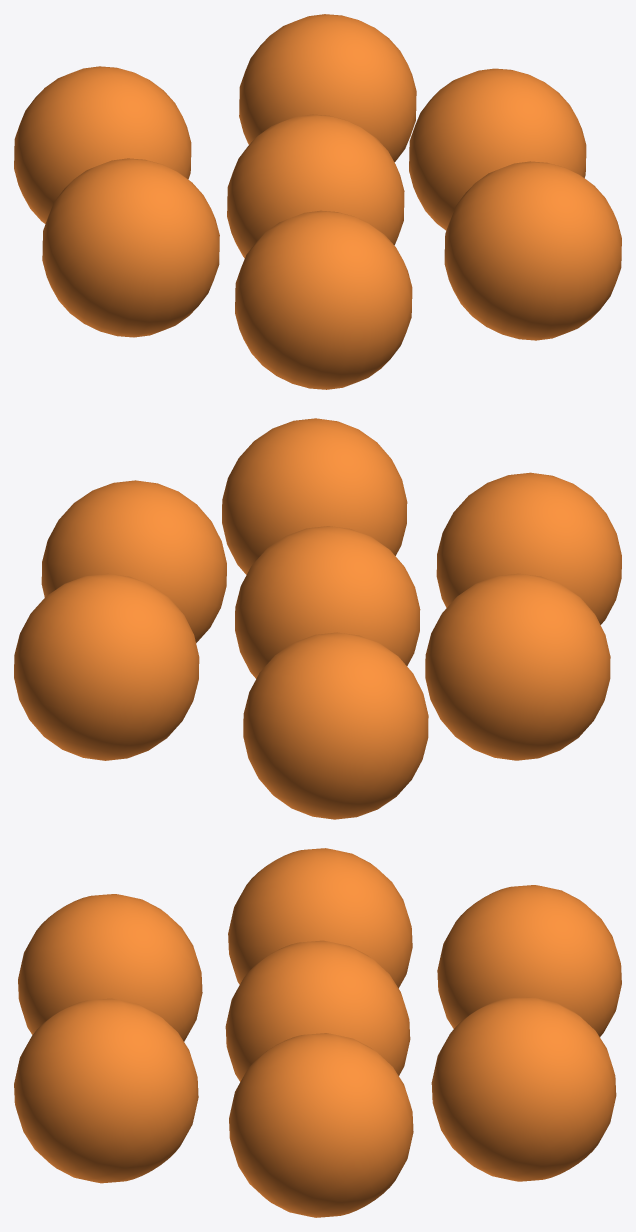
Rendered from the_dragon_balls_77baeb.fbx.
3 views of the same model, one above another, from view 1: azimuth 30°, elevation 25°; view 2: azimuth 150°, elevation 25°; view 3: azimuth 270°, elevation 25° (orthographic). The views are drawn at different scales.
Visible parts, largest first — view 1: the_dragon_balls_77baeb; view 2: the_dragon_balls_77baeb; view 3: the_dragon_balls_77baeb.
Part boxes in pixels (x1,y1,x2,y2): the_dragon_balls_77baeb: (14, 14, 621, 389); the_dragon_balls_77baeb: (14, 418, 621, 819); the_dragon_balls_77baeb: (14, 848, 621, 1217).
Bounding box in the file's own units: 6.7 × 2 × 6.57.
Materials: 2 (2 with a texture image).
